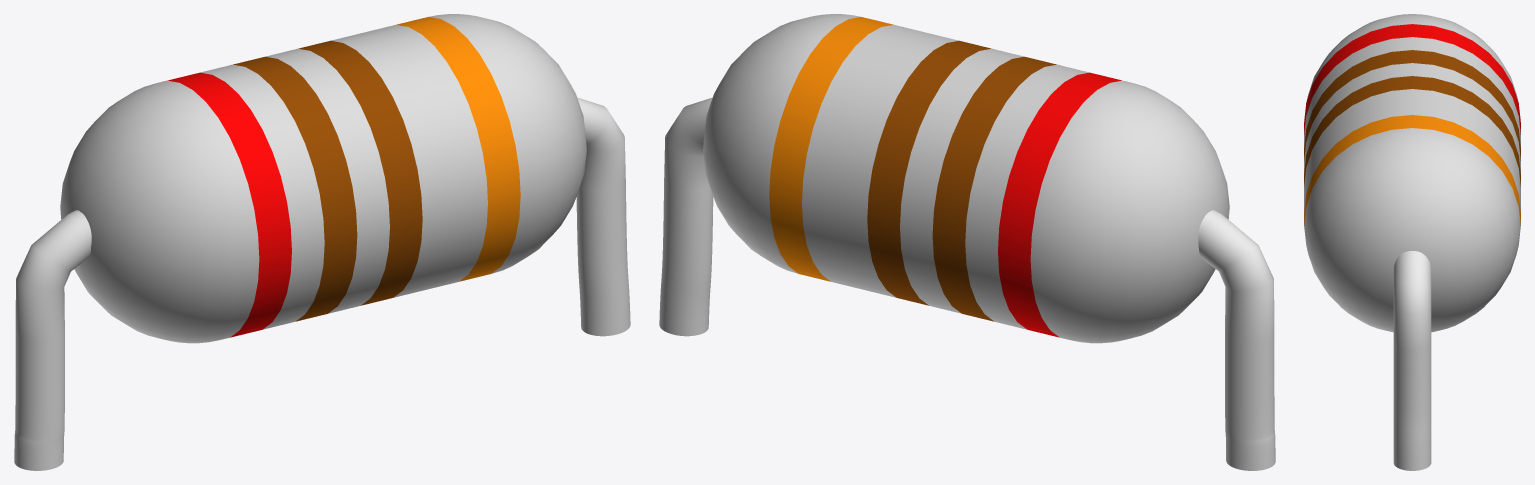
3 renders of one model, left to right at view 1: azimuth 30°, elevation 25°; view 2: azimuth 150°, elevation 25°; view 3: azimuth 270°, elevation 25°, orthographic. The views are drawn at different scales.
Parts seen in each view (by area): view 1: Sphere.002, BezierCurve.002; view 2: Sphere.002, BezierCurve.002; view 3: Sphere.002, BezierCurve.002.
Part boxes in pixels (bbox=[...]): Sphere.002: bbox=[60, 14, 586, 343]; BezierCurve.002: bbox=[14, 97, 630, 470]; Sphere.002: bbox=[703, 14, 1229, 343]; BezierCurve.002: bbox=[659, 97, 1275, 470]; Sphere.002: bbox=[1304, 14, 1520, 332]; BezierCurve.002: bbox=[1393, 251, 1431, 470].
Bounding box in the file's own units: 530 × 280 × 200.
